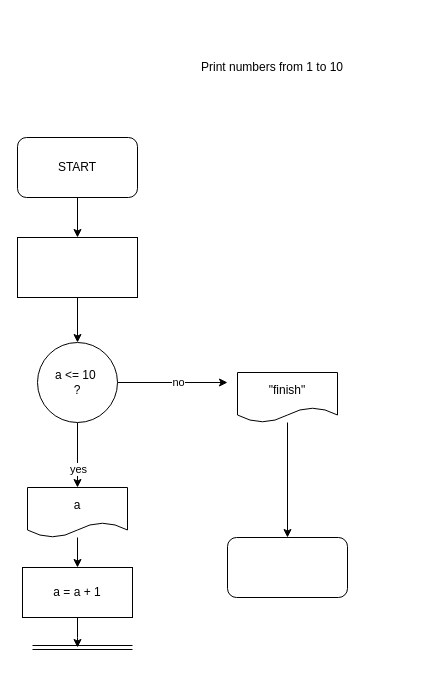
This 445x673 diagram has some shape labels left out. Here are the shapes that lost their labels. From the top down, the centre of each, then its label:
pixel 77 267: a = 1
pixel 287 567: STOP
